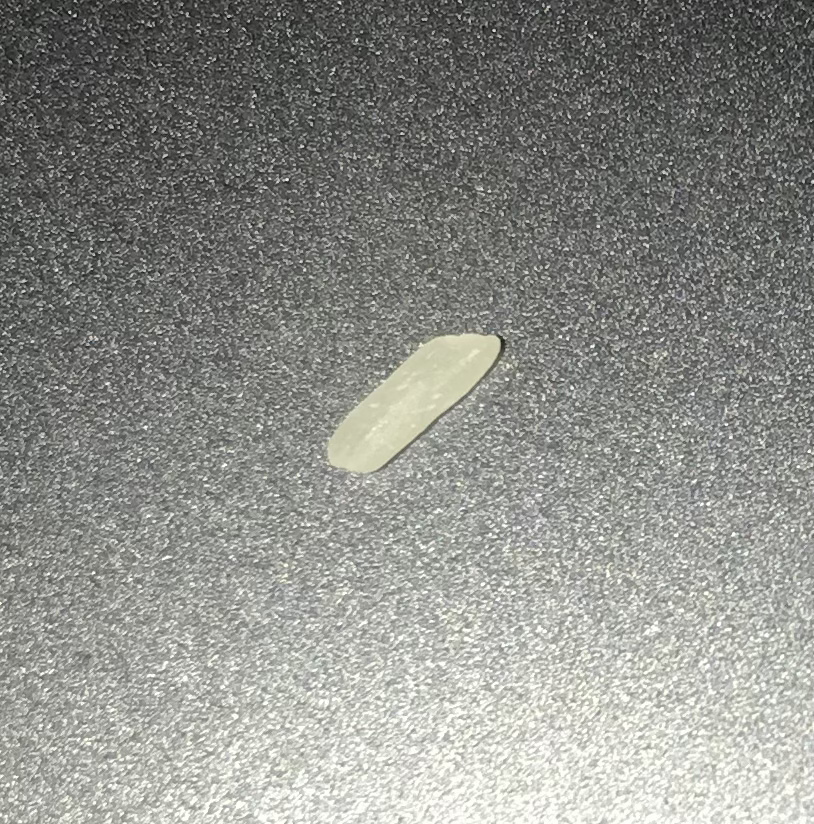Gao Tam Thom: (317, 303, 511, 486)
